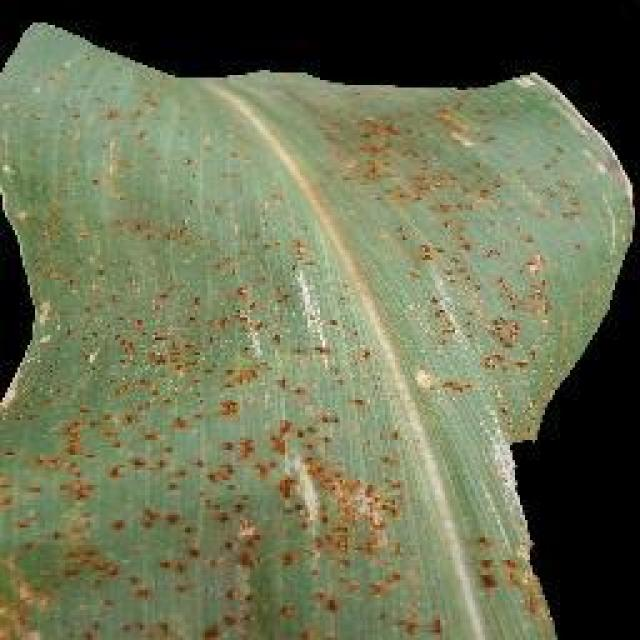Corn Common Rust: (105, 192, 540, 640)
